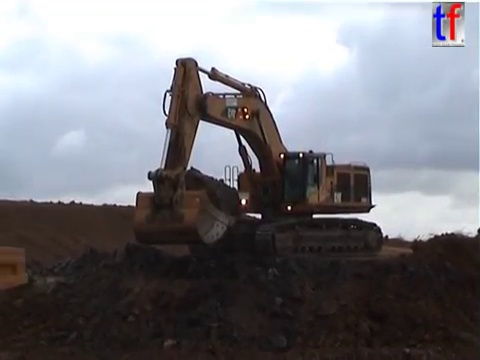excavator: (130, 54, 386, 263)
truck: (1, 241, 30, 293)
